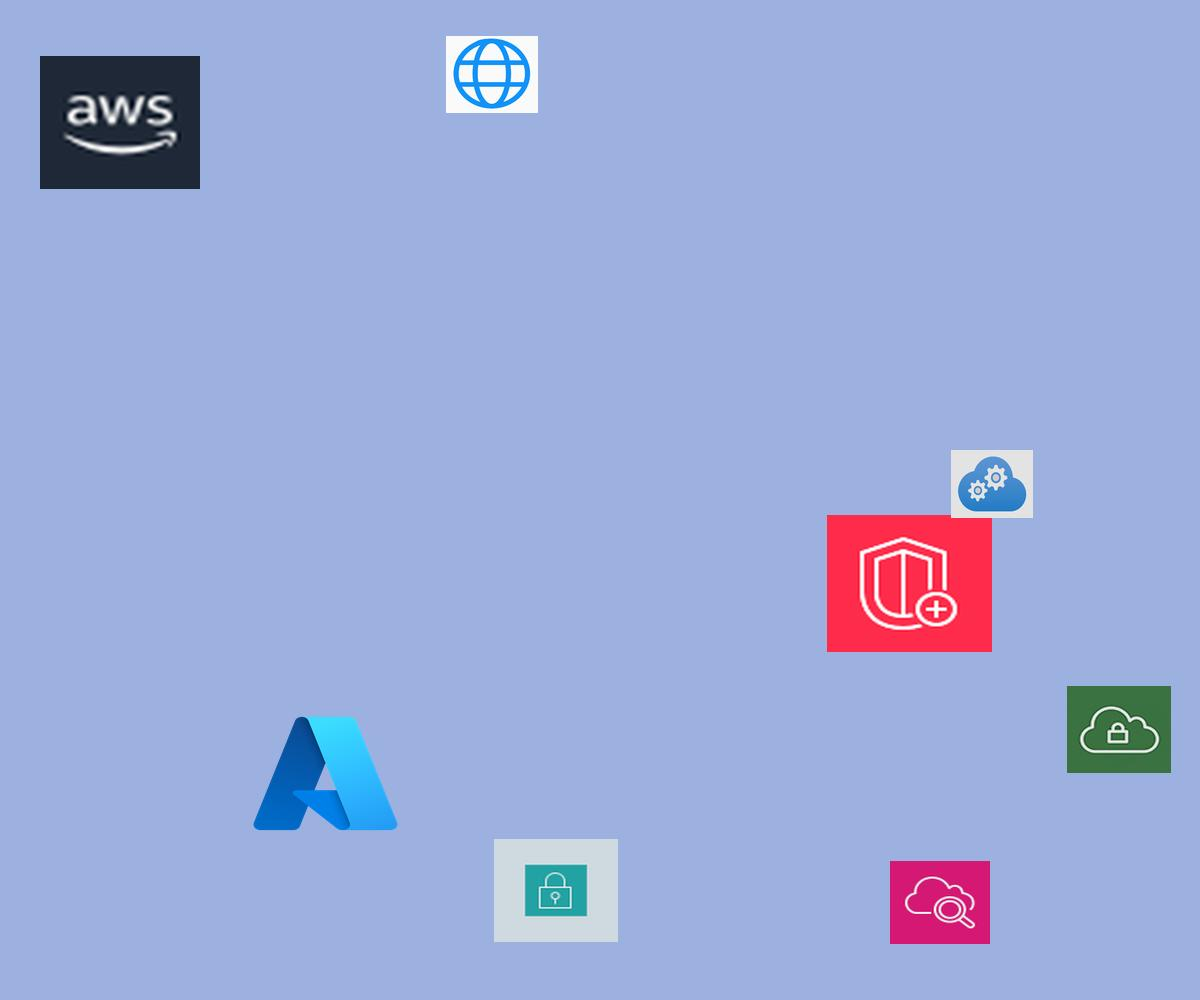AWS-Cloud-logo: (40, 56, 200, 189)
AWS-CloudWatch: (890, 861, 990, 944)
AWS-Private-subnet: (494, 839, 618, 942)
AWS-Private_vpc: (1067, 686, 1171, 773)
AWS-Shield: (827, 515, 992, 652)
Azure_cloud_services: (951, 450, 1033, 518)
Azure_http: (446, 36, 538, 113)
Azure_services: (247, 708, 404, 839)
